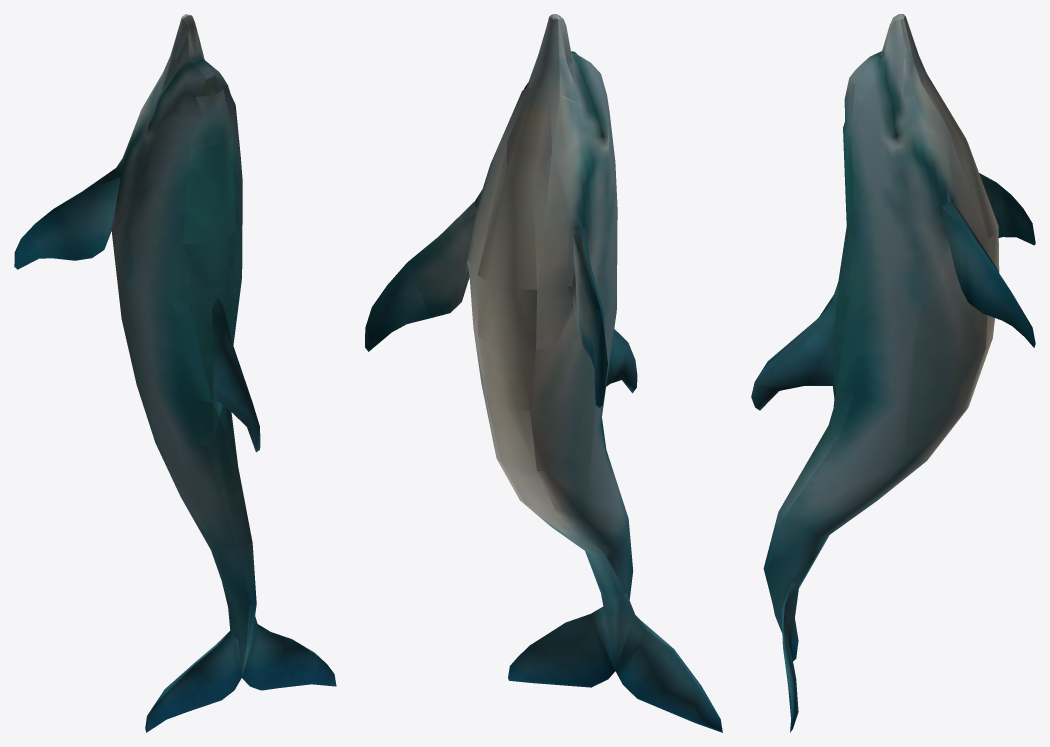
The model's file is ecco1.ico.obj.
3 views of the same model, side by side, from view 1: azimuth 30°, elevation 25°; view 2: azimuth 150°, elevation 25°; view 3: azimuth 270°, elevation 25° (orthographic). The views are drawn at different scales.
Size of the model in its own units: 1.56 by 4.58 by 1.76.
Materials: 1 (1 with a texture image).
